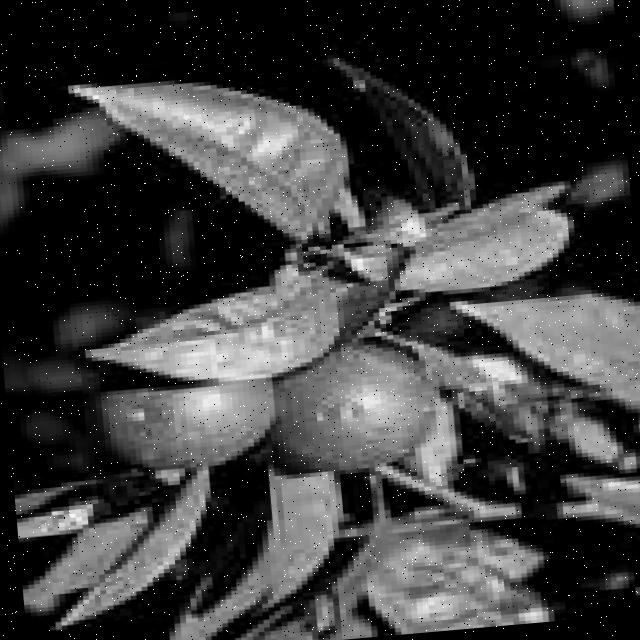Unripe: (88, 348, 282, 480), (264, 334, 442, 473)
